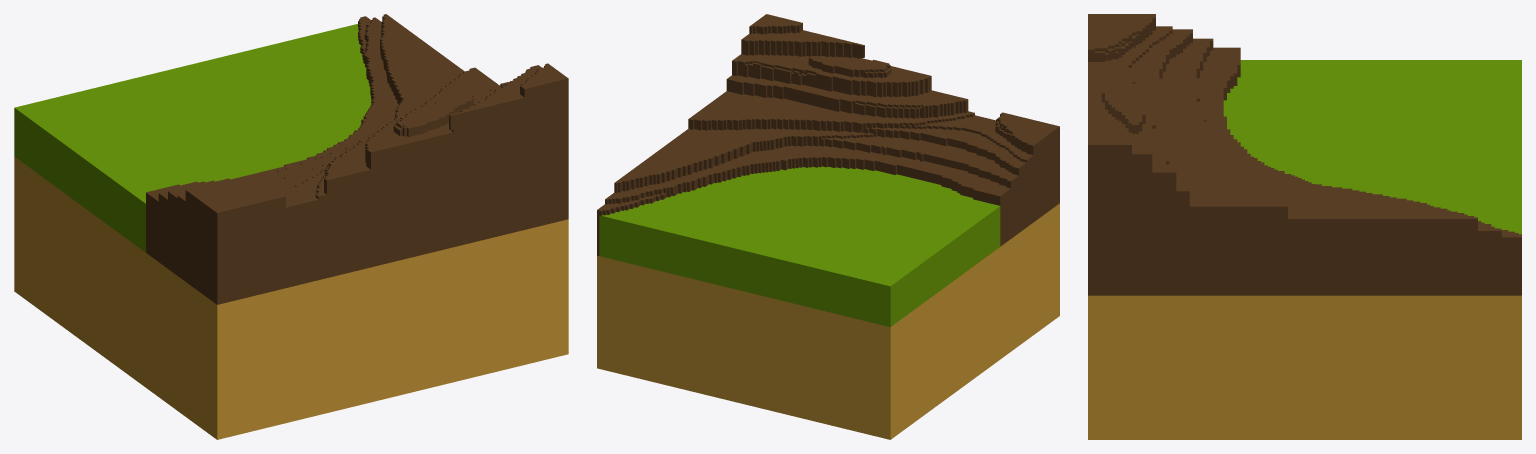
The picture shows the model from 3 angles, left to right: view 1: azimuth 30°, elevation 25°; view 2: azimuth 150°, elevation 25°; view 3: azimuth 270°, elevation 25°; orthographic projection. The views are drawn at different scales.
Parts seen in each view (by area): view 1: 5N; view 2: 5N; view 3: 5N.
Boxes of the visible parts, <box> form: 5N: <box>14,14,568,439</box>; 5N: <box>597,14,1059,439</box>; 5N: <box>1088,14,1521,439</box>.
Bounding box in the file's own units: 12.8 × 9.6 × 12.8.
Materials: 1 (1 with a texture image).
